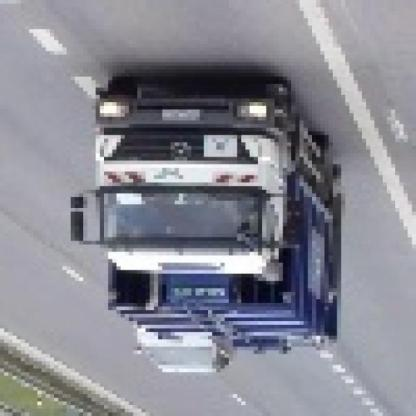truck: (68, 74, 343, 362)
